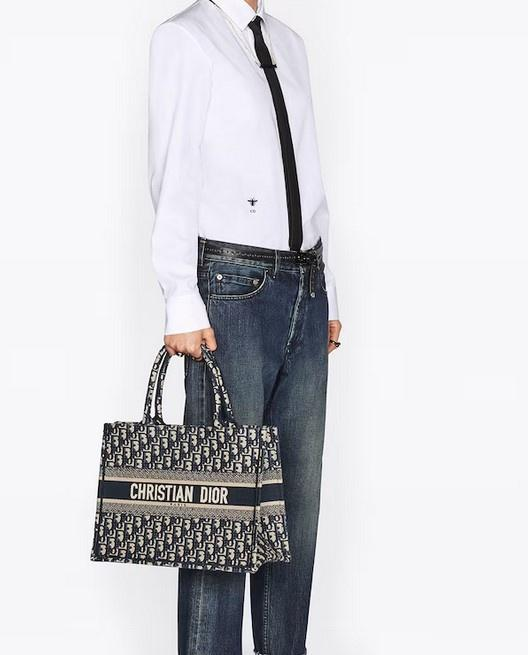DIOR: (119, 461, 242, 529)
